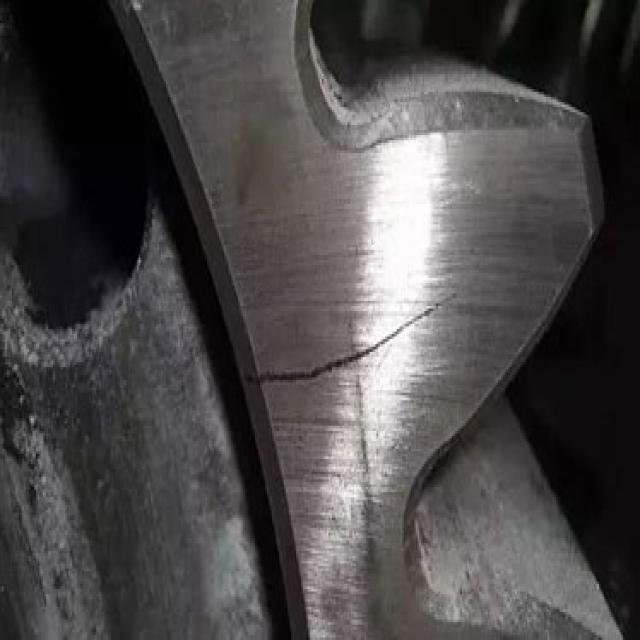Rupture: (243, 286, 460, 393)
